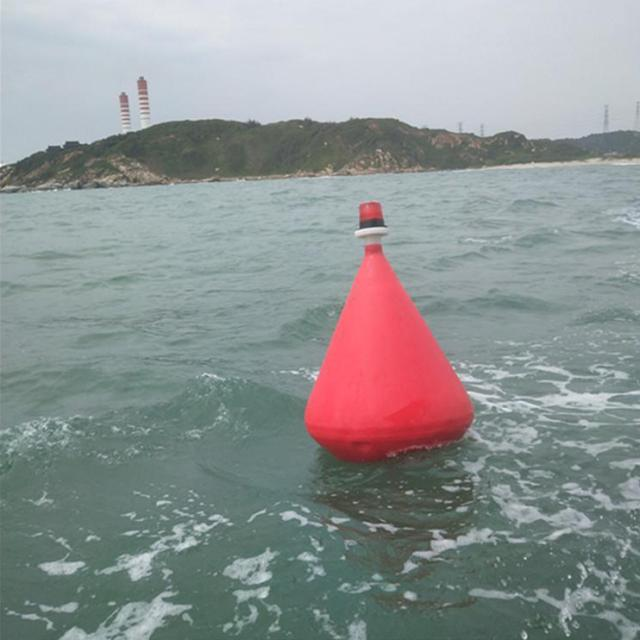buoy: (304, 195, 471, 455)
